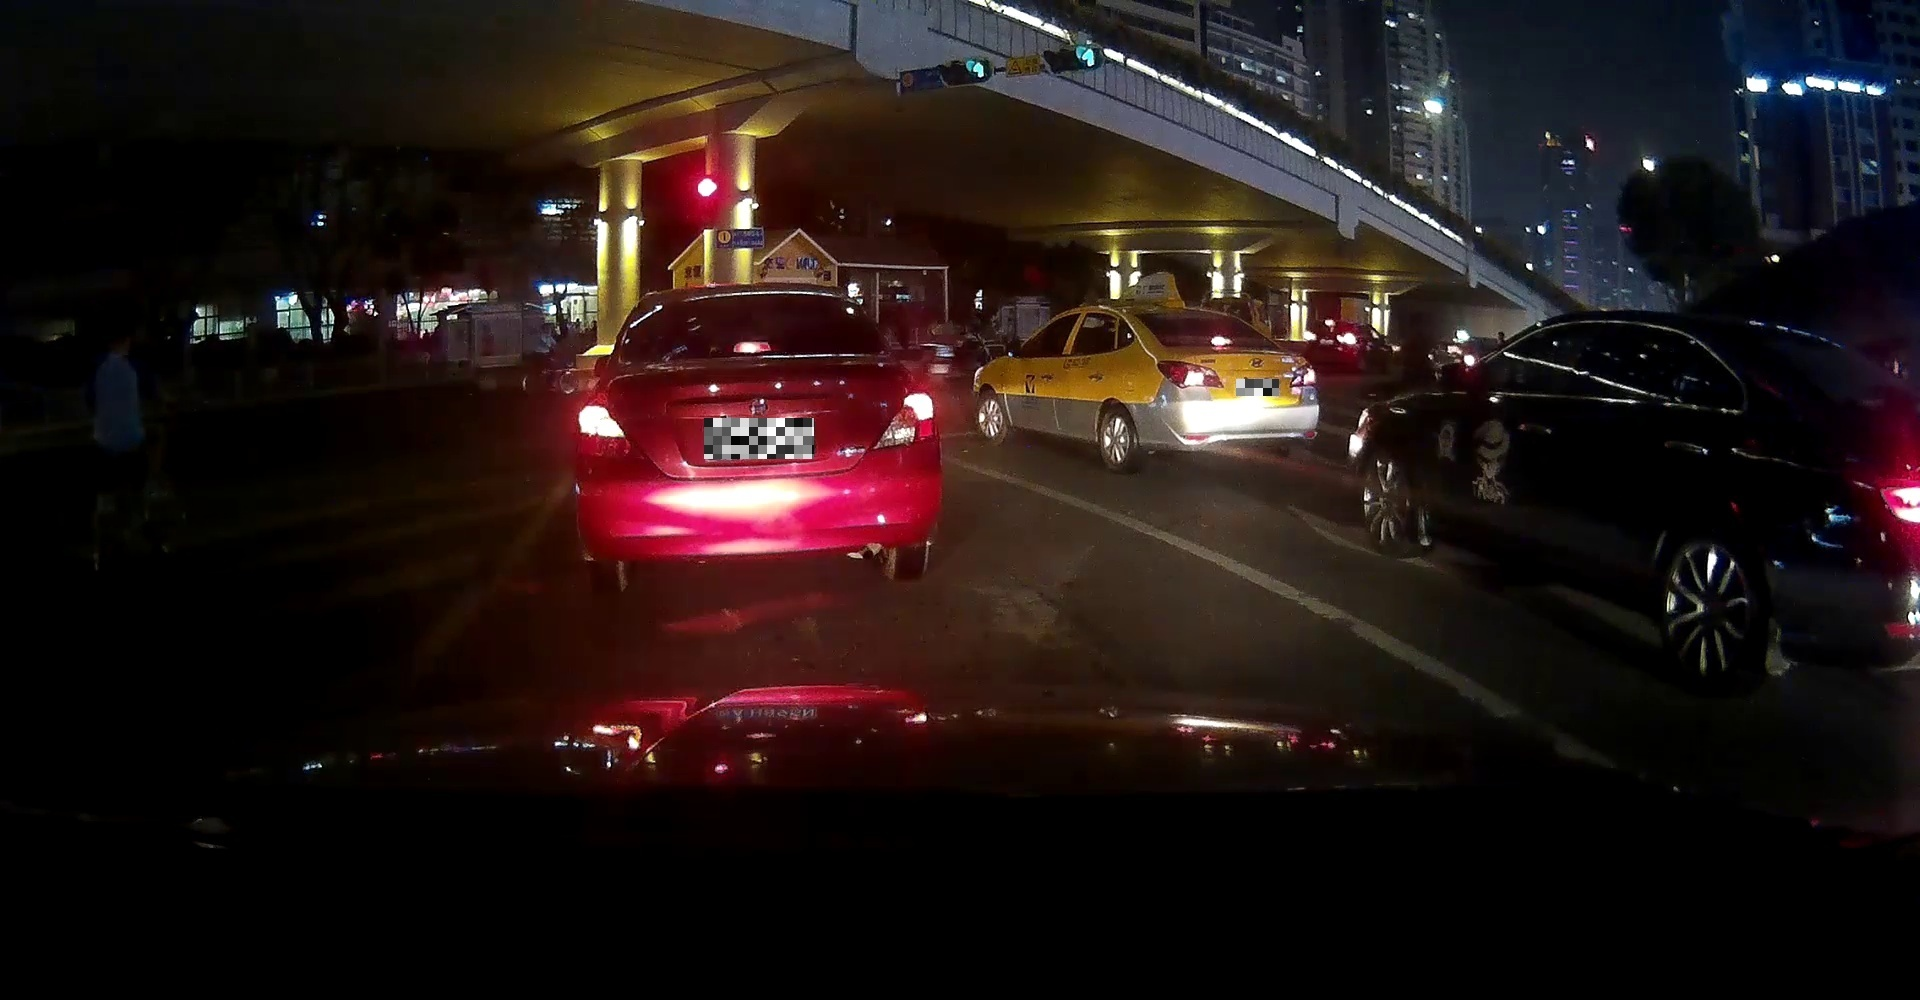L_light: (577, 404, 644, 459), (1158, 360, 1224, 390)
R_light: (871, 390, 936, 451), (1288, 362, 1317, 387)
T_light: (731, 340, 773, 355), (1209, 338, 1233, 346)
night-brake: (571, 283, 941, 593), (1125, 303, 1318, 475)
plate_1: (703, 418, 814, 459)
plate_2: (1236, 379, 1279, 396)
